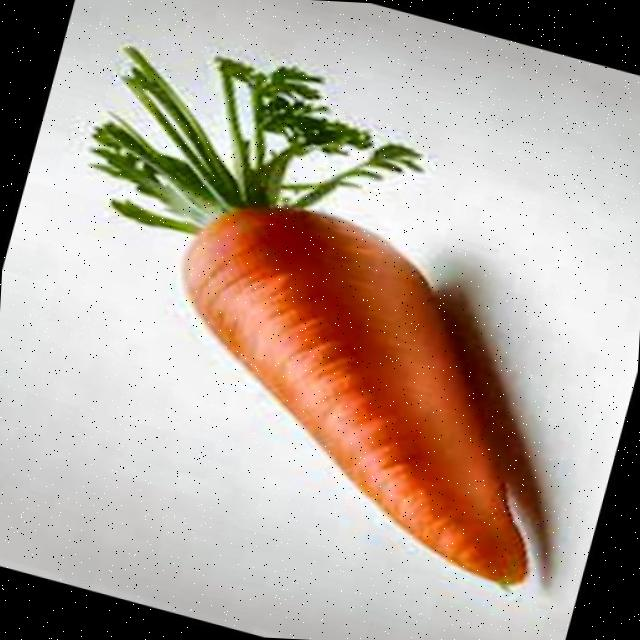carrot: (92, 46, 525, 582)
